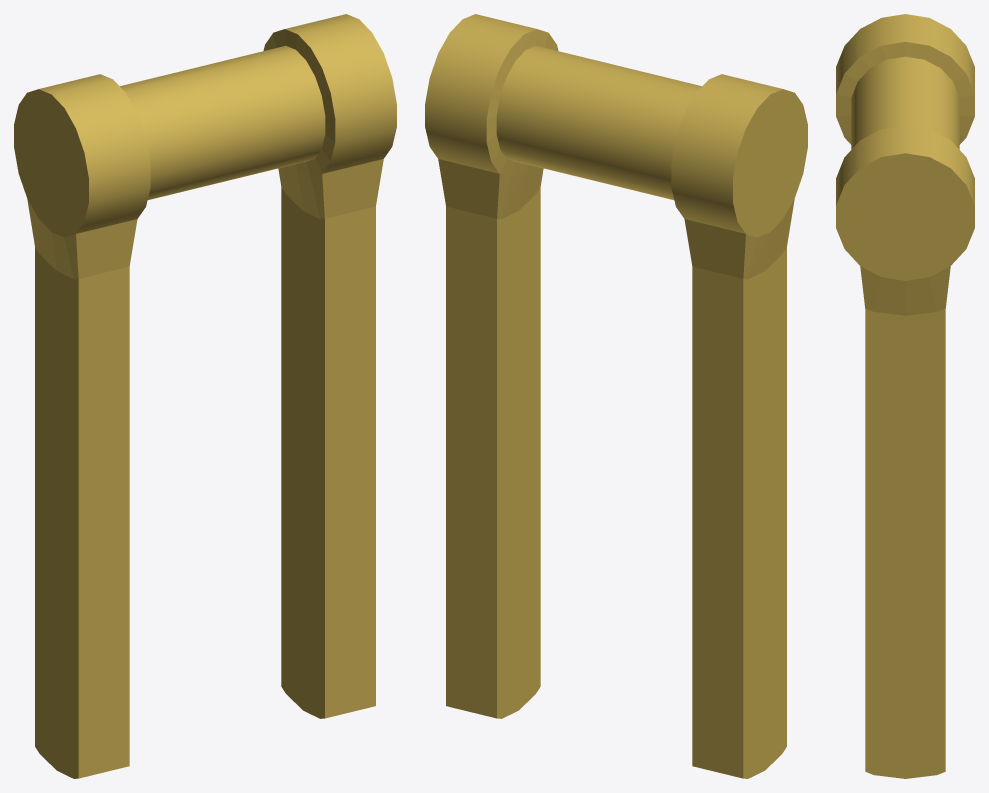
File: Levier_Up_02E.FBX
3 views of the same model, side by side, from view 1: azimuth 30°, elevation 25°; view 2: azimuth 150°, elevation 25°; view 3: azimuth 270°, elevation 25° (orthographic). The views are drawn at different scales.
Parts seen in each view (by area): view 1: Object007; view 2: Object007; view 3: Object007.
Part boxes in pixels (x1,y1,x2,y2): Object007: (14,14,396,778); Object007: (425,14,807,778); Object007: (836,14,974,778).
Size of the model in its own units: 9.17 by 19.29 by 3.86.
